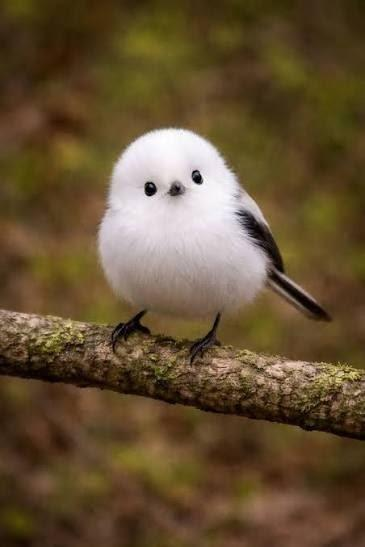pigeon: (99, 129, 328, 360)
